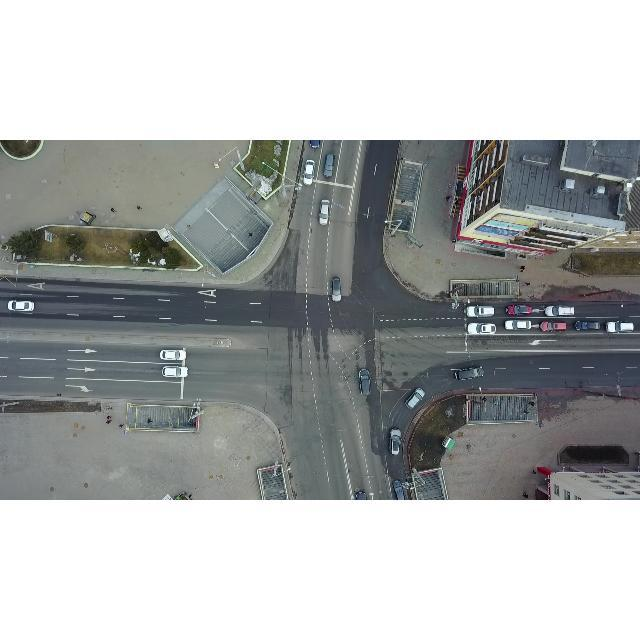vehicle: (404, 388, 426, 408), (389, 426, 403, 456), (454, 366, 484, 380), (358, 368, 372, 396), (302, 158, 316, 186), (466, 304, 494, 318), (467, 322, 497, 334), (545, 305, 575, 317), (7, 300, 35, 312), (606, 321, 634, 333), (162, 366, 188, 378), (318, 199, 330, 225), (322, 152, 334, 178), (506, 304, 532, 316), (540, 320, 566, 332), (331, 276, 342, 302), (160, 350, 188, 360), (505, 320, 531, 330), (574, 321, 600, 331)
